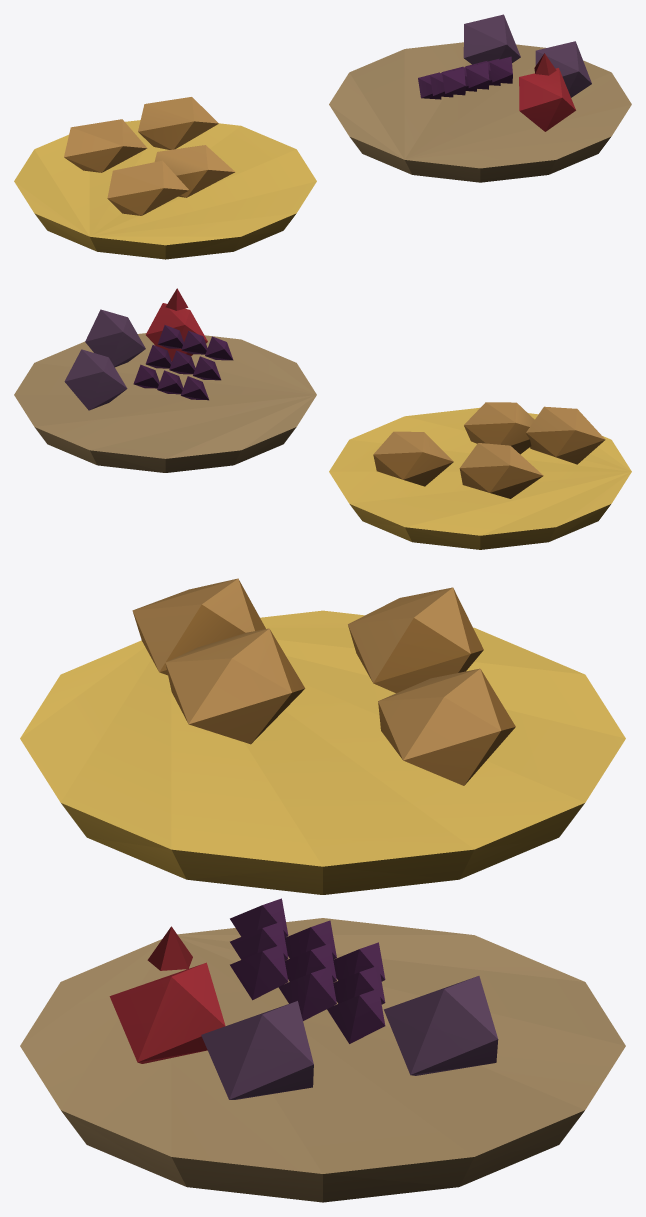
Rendered from breadfruit.glb.
3 views of the same model, one above another, from view 1: azimuth 30°, elevation 25°; view 2: azimuth 150°, elevation 25°; view 3: azimuth 270°, elevation 25° (orthographic). The views are drawn at different scales.
Parts seen in each view (by area): view 1: base; view 2: base; view 3: base.
Part boxes in pixels (box(x1,y1,x2,y2)): base: box(14, 14, 631, 259); base: box(14, 288, 631, 549); base: box(20, 578, 625, 1202).
Size of the model in its own units: 0.44 by 0.068 by 0.2.
